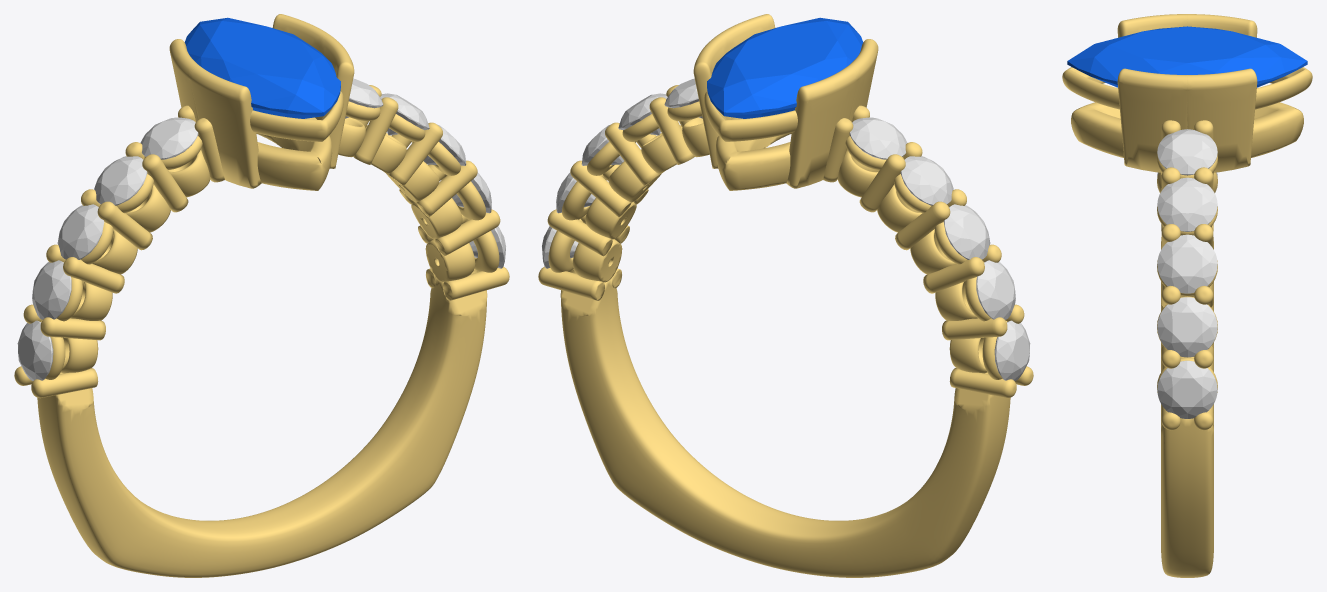
File: bluesapphire-marquise-yellowgold-halfmoonbezel-europeanshank-11stone.glb
3 views of the same model, side by side, from view 1: azimuth 30°, elevation 25°; view 2: azimuth 150°, elevation 25°; view 3: azimuth 270°, elevation 25° (orthographic). The views are drawn at different scales.
Visible parts, largest first — view 1: metal.003, stone.002, dia.024, dia.025, dia.023, dia.026, dia.002, dia.030, dia.031; view 2: metal.003, stone.002, dia.024, dia.025, dia.023, dia.026, dia.002, dia.030, dia.031; view 3: metal.003, stone.002, dia.028, dia.029, dia.027, dia.030, dia.031.
Boxes of the visible parts, x1=… form: metal.003: x1=14, y1=14, x2=509, y2=577; stone.002: x1=184, y1=17, x2=340, y2=118; dia.024: x1=57, y1=204, x2=104, y2=259; dia.025: x1=94, y1=156, x2=147, y2=205; dia.023: x1=32, y1=260, x2=71, y2=319; dia.026: x1=140, y1=117, x2=198, y2=159; dia.002: x1=17, y1=320, x2=53, y2=380; dia.030: x1=380, y1=93, x2=429, y2=135; dia.031: x1=345, y1=78, x2=383, y2=118; metal.003: x1=538, y1=14, x2=1033, y2=577; stone.002: x1=707, y1=17, x2=863, y2=118; dia.024: x1=943, y1=204, x2=990, y2=259; dia.025: x1=900, y1=156, x2=953, y2=205; dia.023: x1=976, y1=260, x2=1015, y2=319; dia.026: x1=849, y1=117, x2=907, y2=159; dia.002: x1=994, y1=320, x2=1030, y2=380; dia.030: x1=618, y1=93, x2=667, y2=135; dia.031: x1=664, y1=78, x2=702, y2=118; metal.003: x1=1062, y1=14, x2=1312, y2=577; stone.002: x1=1067, y1=26, x2=1307, y2=87; dia.028: x1=1157, y1=297, x2=1217, y2=357; dia.029: x1=1157, y1=234, x2=1217, y2=293; dia.027: x1=1157, y1=360, x2=1217, y2=418; dia.030: x1=1157, y1=177, x2=1217, y2=231; dia.031: x1=1157, y1=129, x2=1217, y2=175.
Bounding box in the file's own units: 22.1 × 22.73 × 10.4.
